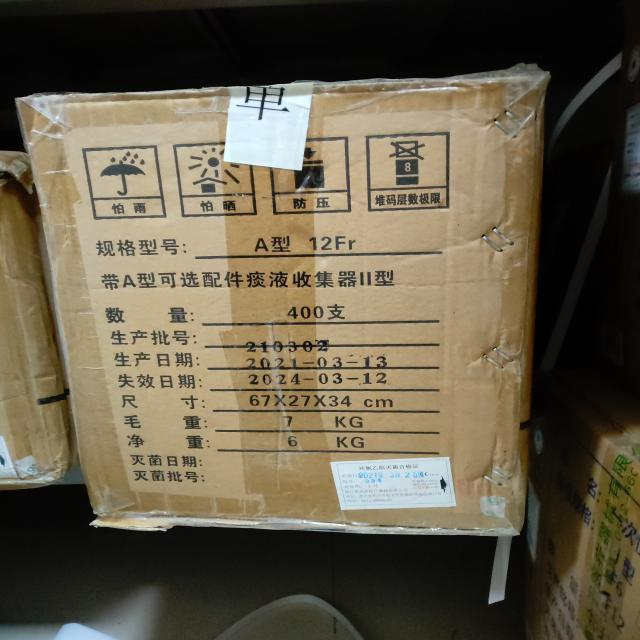box: (16, 73, 532, 544), (517, 387, 640, 640), (0, 153, 87, 484)
